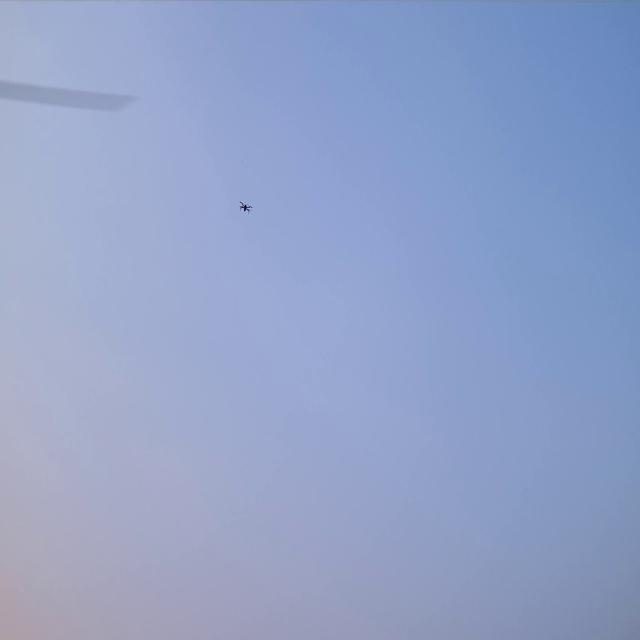UAV: (236, 196, 254, 218)
